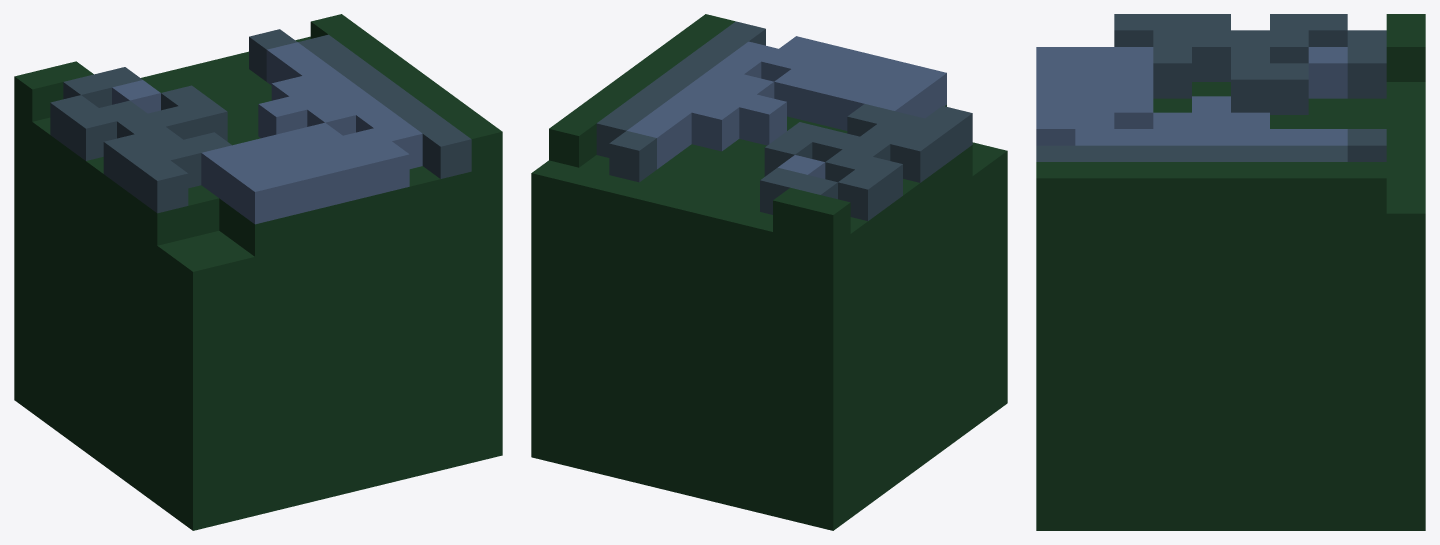
File: Floor 5.obj
The picture shows the model from 3 angles, left to right: view 1: azimuth 30°, elevation 25°; view 2: azimuth 150°, elevation 25°; view 3: azimuth 270°, elevation 25°; orthographic projection. The views are drawn at different scales.
Bounding box in the file's own units: 10 × 10 × 10.
1 material, 1 textured.
